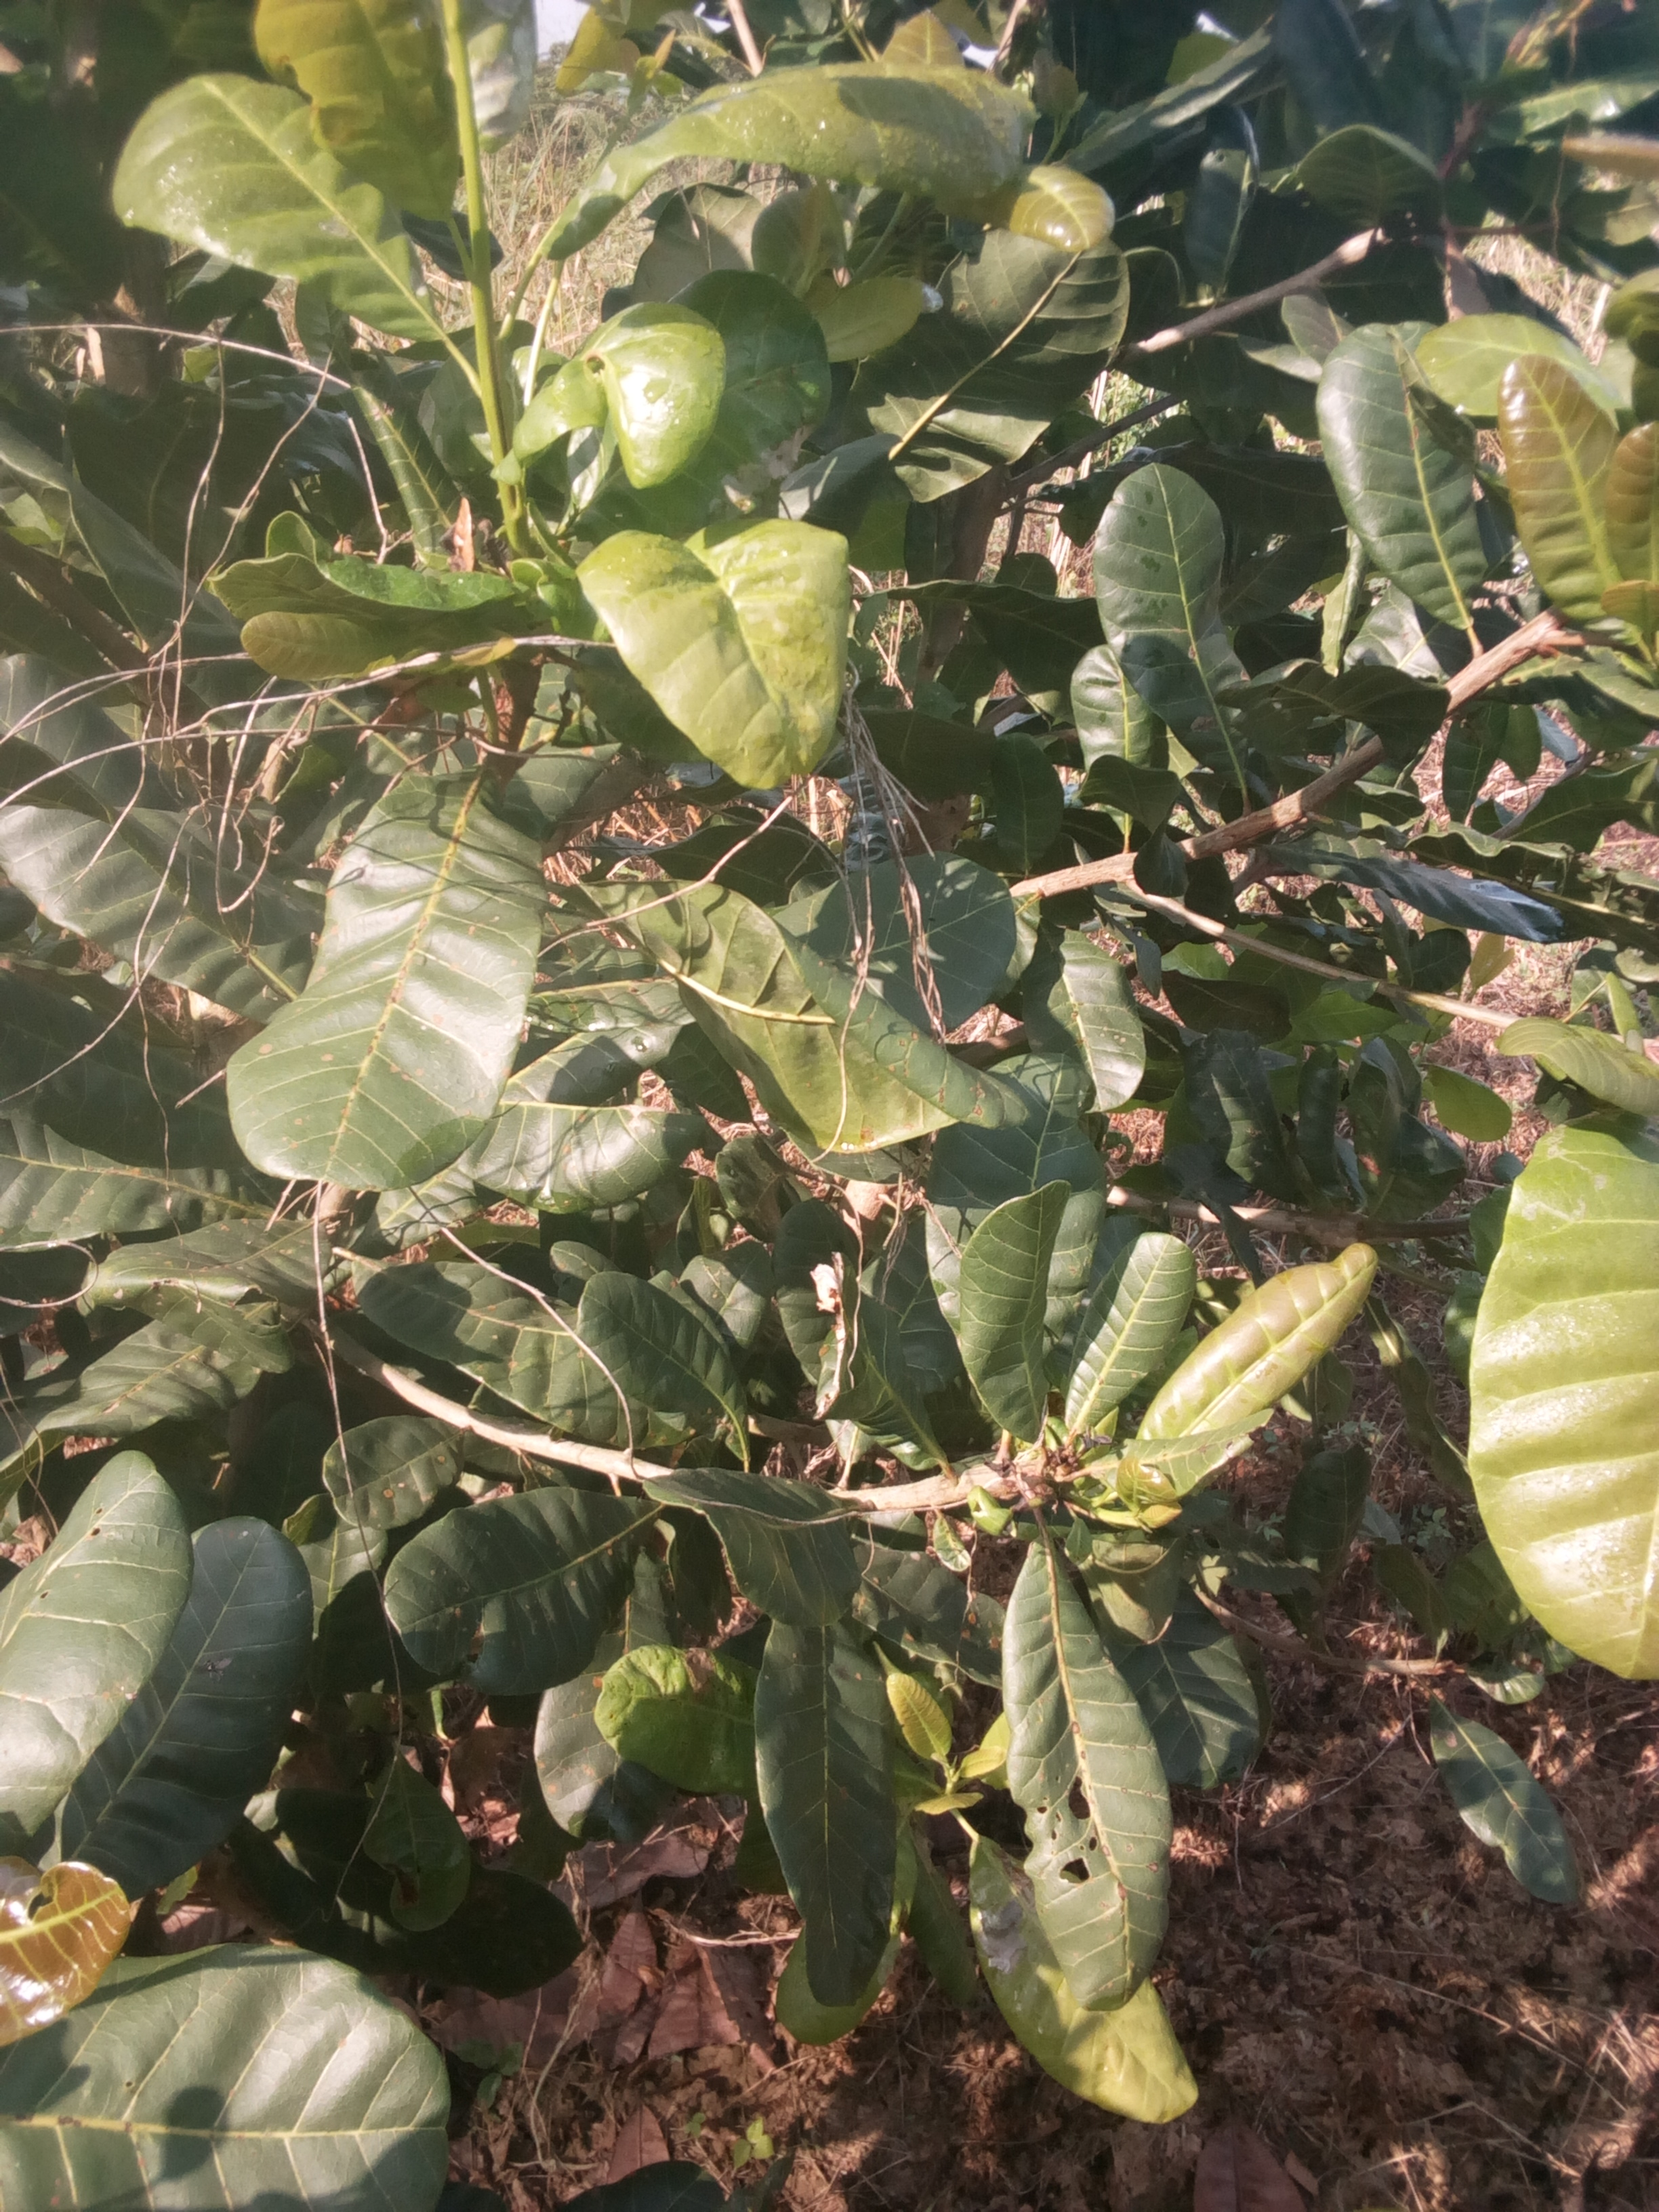Anoplonemis curvipes: (972, 1554, 1243, 2010)
